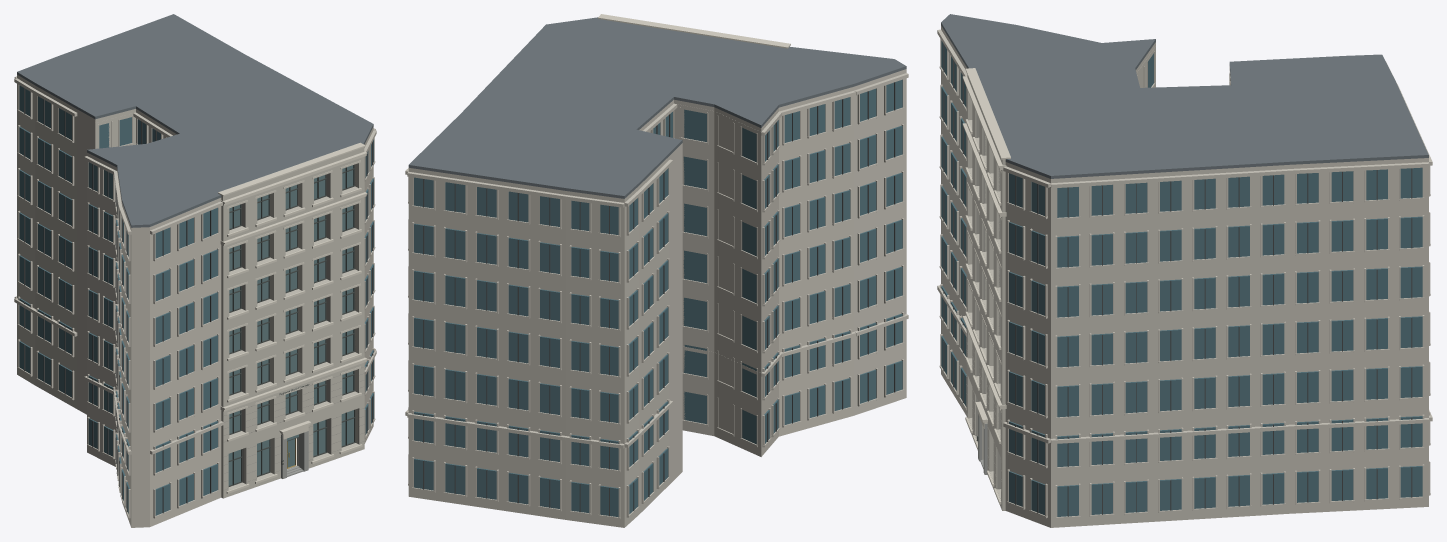
File: con-exterior-365b56fde61a.glb
3 views of the same model, side by side, from view 1: azimuth 30°, elevation 25°; view 2: azimuth 150°, elevation 25°; view 3: azimuth 270°, elevation 25° (orthographic). The views are drawn at different scales.
Visible parts, largest first — view 1: CON.001; view 2: CON.001; view 3: CON.001.
Part boxes in pixels (x1,y1,x2,y2): CON.001: [14, 14, 376, 527]; CON.001: [405, 14, 908, 527]; CON.001: [937, 14, 1432, 527].
Size of the model in its own units: 29.43 by 29.36 by 37.3.
